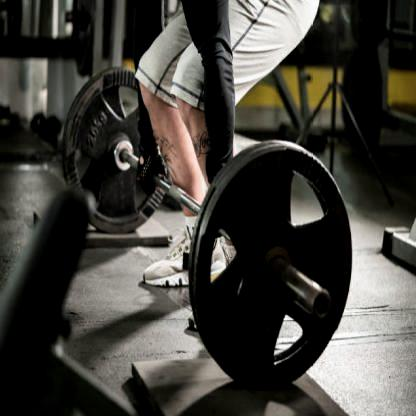Barbell: (307, 282, 334, 322)
